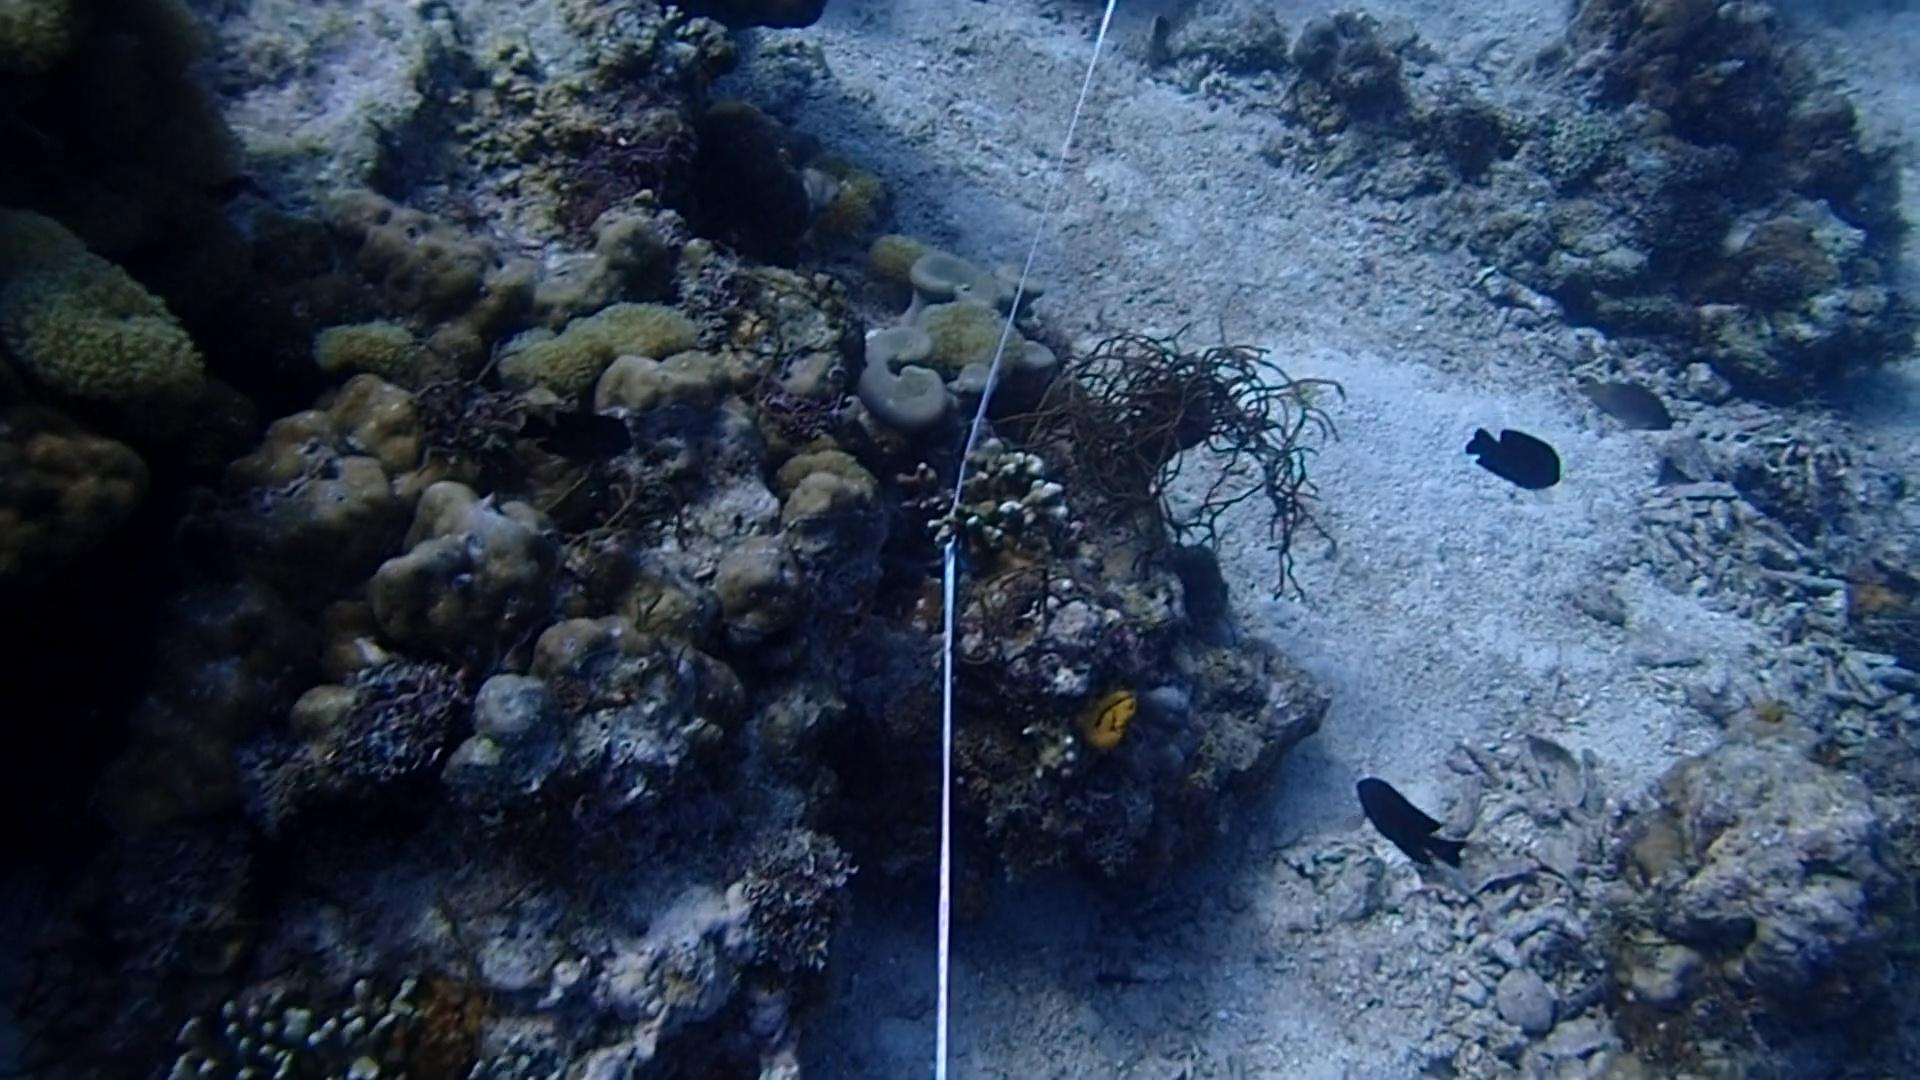Dark Fish: (1342, 766, 1474, 877), (1444, 415, 1578, 504)
Light Fish: (1565, 364, 1679, 444)
